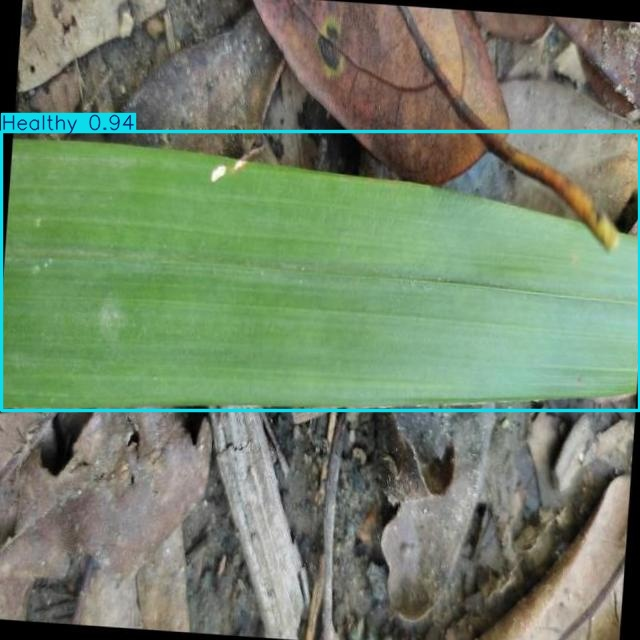Healthy: (1, 131, 639, 411)
